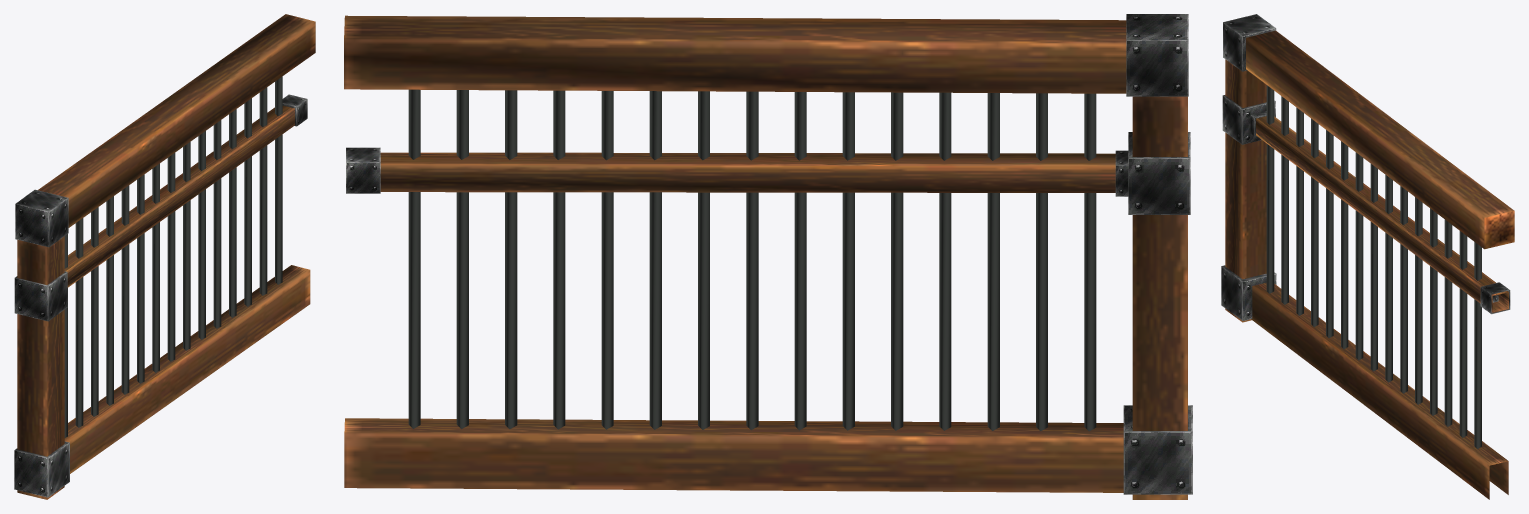
File: SWORDLIGHT20_JAILCELLBARS02.fbx
3 renders of one model, left to right at view 1: azimuth 30°, elevation 25°; view 2: azimuth 150°, elevation 25°; view 3: azimuth 270°, elevation 25°, orthographic. The views are drawn at different scales.
Visible parts, largest first — view 1: SWORDLIGHT20_JAILCELLBARS02; view 2: SWORDLIGHT20_JAILCELLBARS02; view 3: SWORDLIGHT20_JAILCELLBARS02.
Part boxes in pixels (x1=…): SWORDLIGHT20_JAILCELLBARS02: x1=14, y1=14, x2=315, y2=499; SWORDLIGHT20_JAILCELLBARS02: x1=344, y1=14, x2=1192, y2=499; SWORDLIGHT20_JAILCELLBARS02: x1=1221, y1=14, x2=1514, y2=499.
Bounding box in the file's own units: 55418 × 36735 × 33915.
3 materials, 3 textured.
